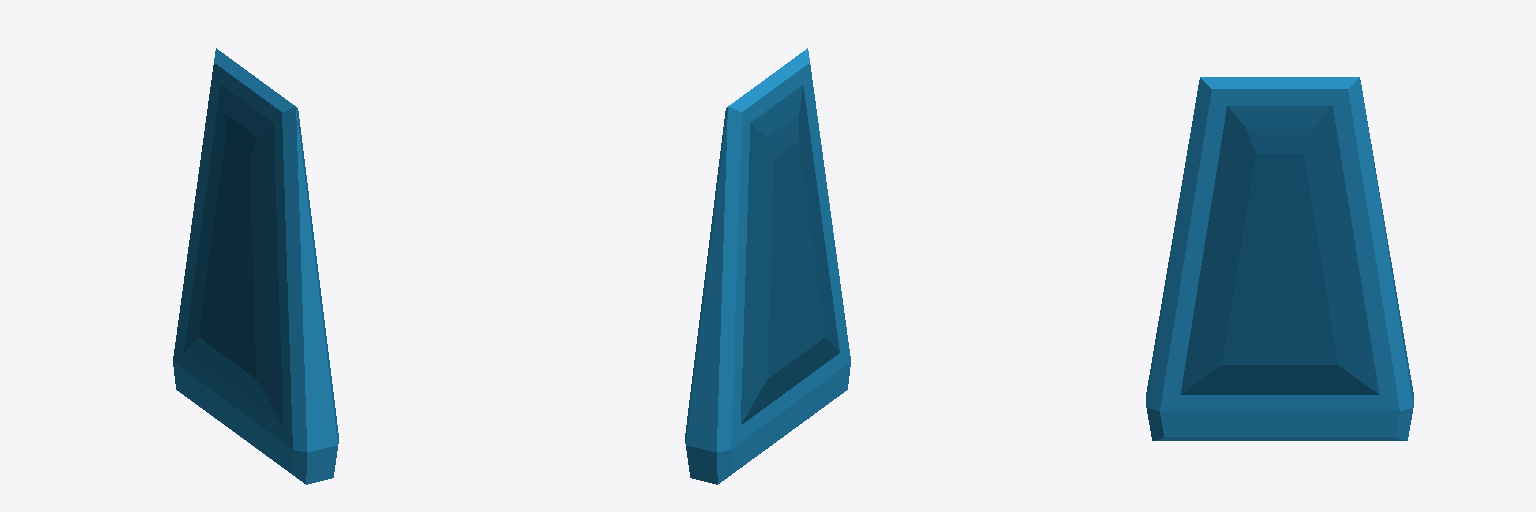
Rendered from Spacestation_Structure_Wing_Thin_Winglet_Upward.obj.
3 views of the same model, side by side, from view 1: azimuth 30°, elevation 25°; view 2: azimuth 150°, elevation 25°; view 3: azimuth 270°, elevation 25° (orthographic).
Parts seen in each view (by area): view 1: object2, object1; view 2: object2, object1; view 3: object1, object2.
Part boxes in pixels (x1,y1,x2,y2): object2: (173, 48, 338, 484); object1: (184, 85, 282, 424); object2: (685, 48, 850, 484); object1: (741, 85, 839, 424); object1: (1181, 106, 1378, 394); object2: (1146, 77, 1413, 440).
Bounding box in the file's own units: 0.185 × 1.11 × 0.75.